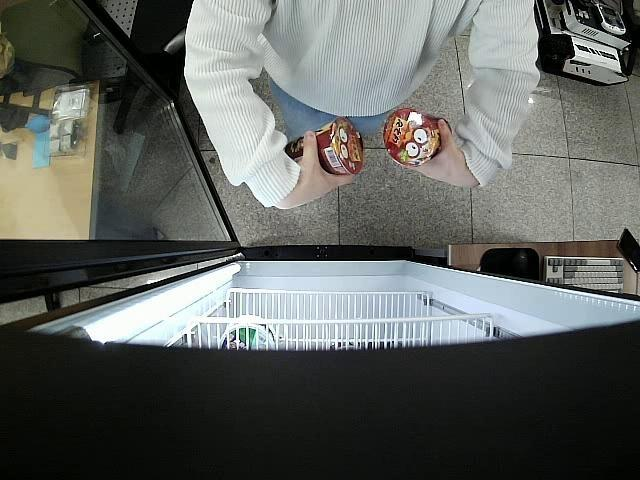06_nuguri_S: (284, 117, 362, 176), (382, 109, 451, 166)
